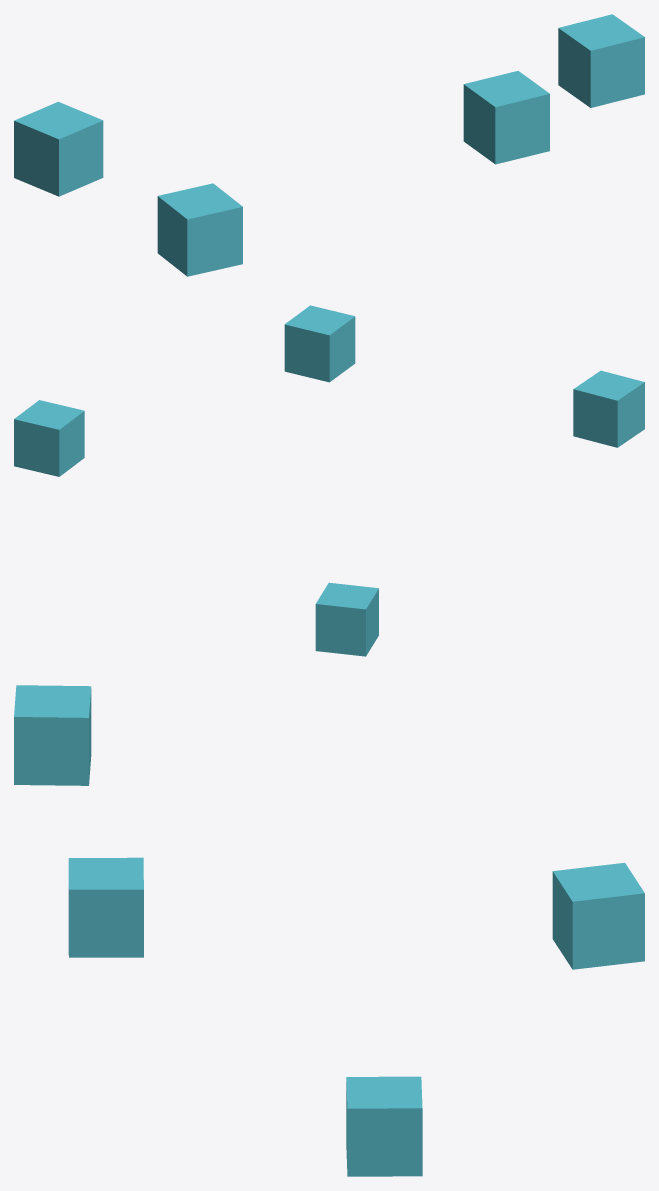
File: 65_chimney.glb
The picture shows the model from 3 angles, top to bottom: view 1: azimuth 30°, elevation 25°; view 2: azimuth 150°, elevation 25°; view 3: azimuth 270°, elevation 25°; orthographic projection. The views are drawn at different scales.
Parts seen in each view (by area): view 1: Box003, Box001, Box004, Box002; view 2: Box002, Box004, Box001, Box003; view 3: Box003, Box002, Box001, Box004.
Boxes of the visible parts, x1=… form: Box003: x1=14, y1=101, x2=103, y2=196; Box001: x1=558, y1=14, x2=644, y2=107; Box004: x1=463, y1=71, x2=549, y2=164; Box002: x1=157, y1=183, x2=242, y2=276; Box002: x1=573, y1=370, x2=644, y2=447; Box004: x1=284, y1=305, x2=355, y2=382; Box001: x1=14, y1=400, x2=84, y2=476; Box003: x1=315, y1=582, x2=378, y2=656; Box003: x1=552, y1=862, x2=644, y2=969; Box002: x1=14, y1=685, x2=91, y2=785; Box001: x1=346, y1=1076, x2=422, y2=1176; Box004: x1=68, y1=857, x2=143, y2=957.
Bounding box in the file's own units: 9.05 × 2.64 × 6.98.
